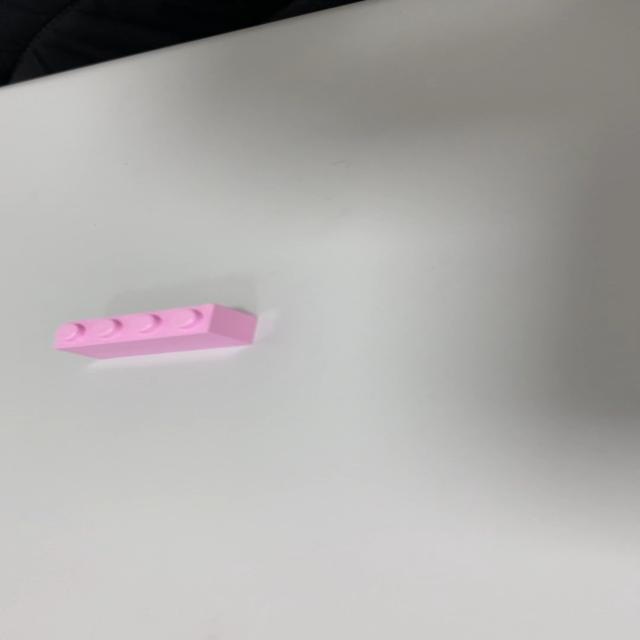C4x1x1: (51, 302, 258, 360)
